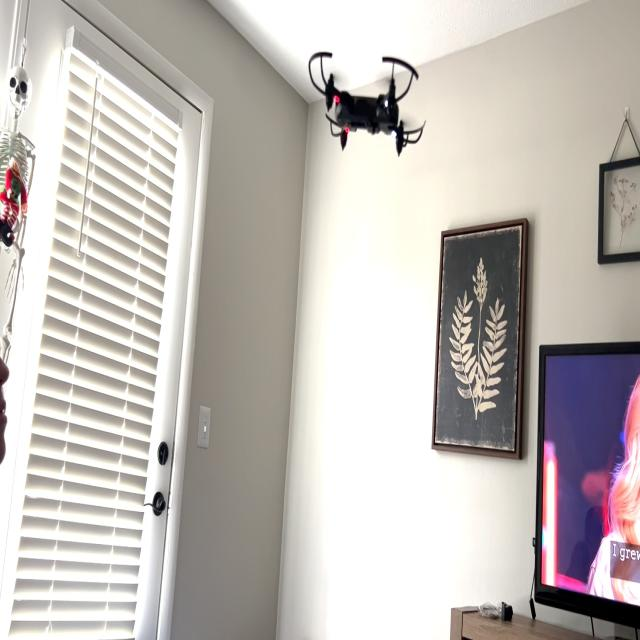drone: (298, 29, 431, 165)
